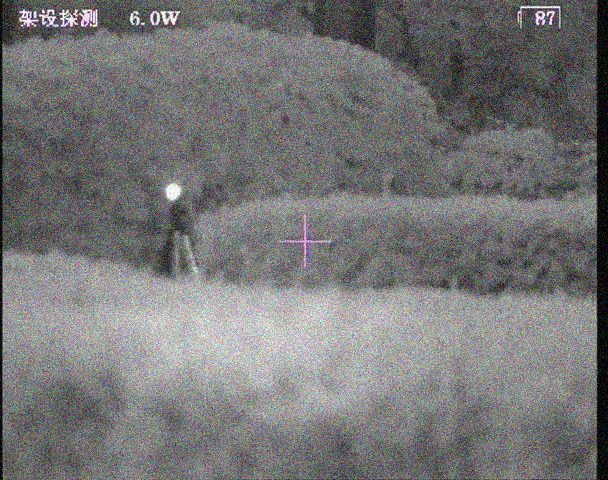my: (165, 182, 182, 201)
